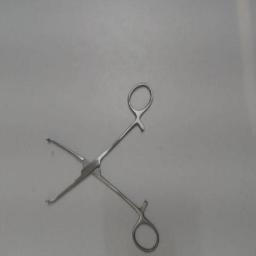Allis Tissue Forceps: (43, 80, 161, 252)
